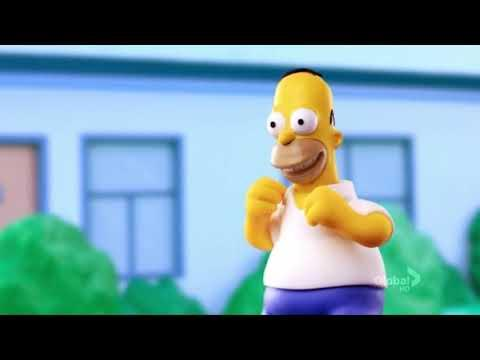Homer: (242, 63, 407, 312)
